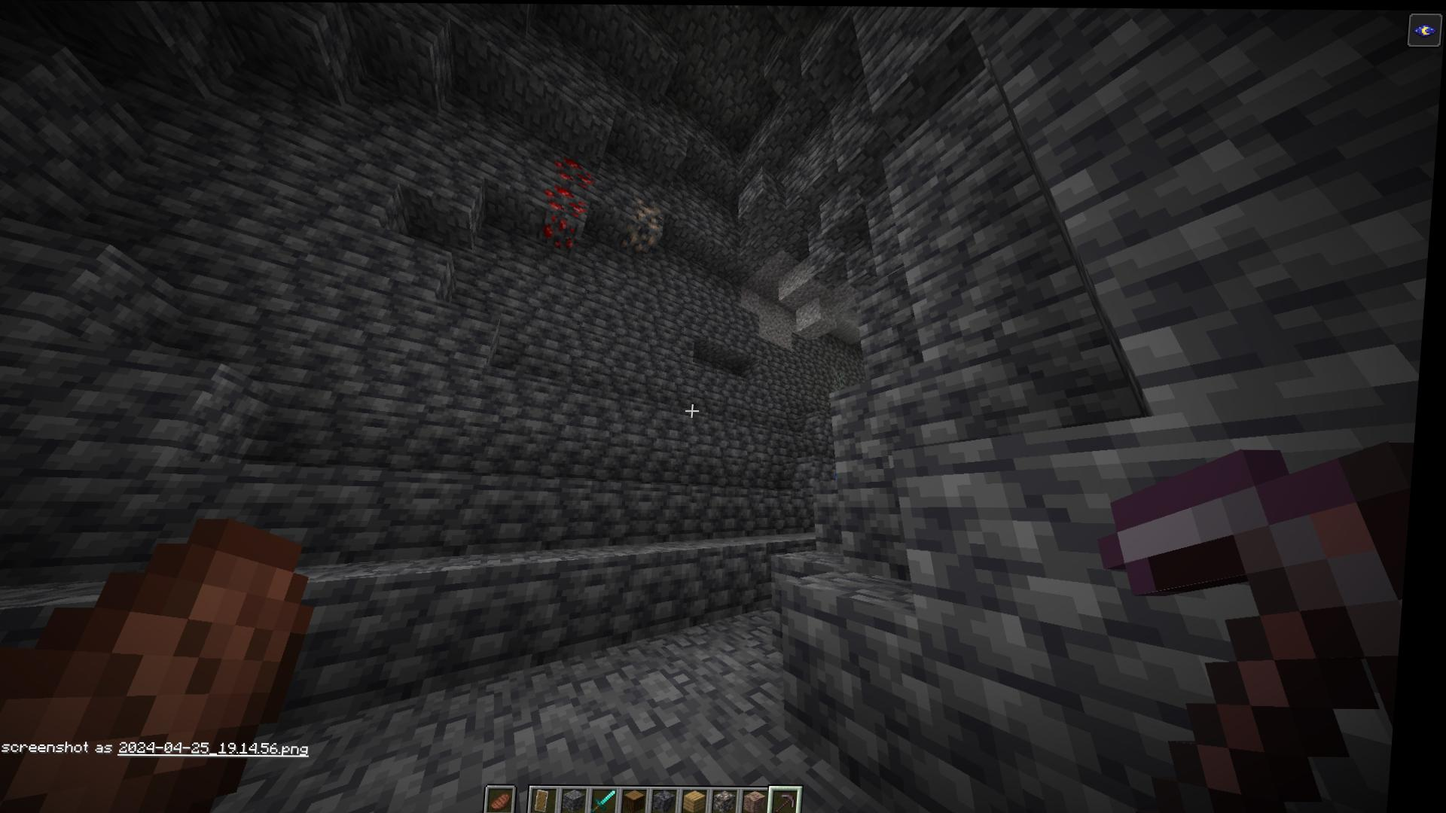iron ore: (621, 199, 673, 260)
redstone ore: (544, 193, 593, 249), (548, 154, 606, 193)
